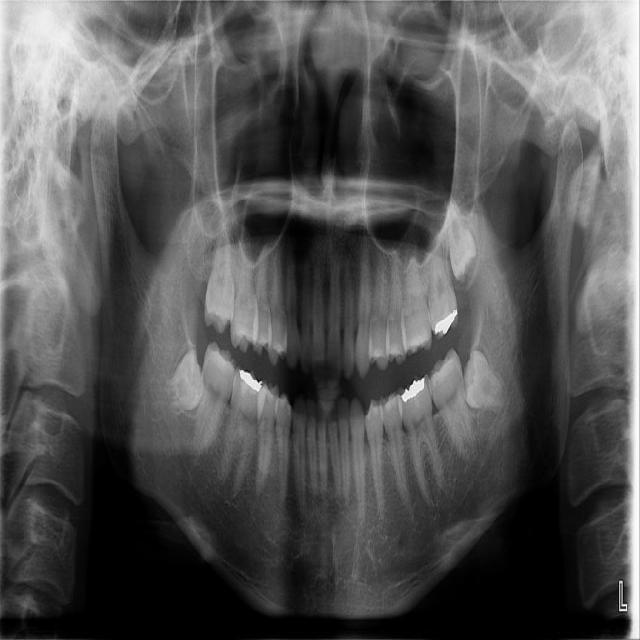Filling: (435, 309, 458, 335), (401, 378, 424, 402), (239, 370, 262, 393)
